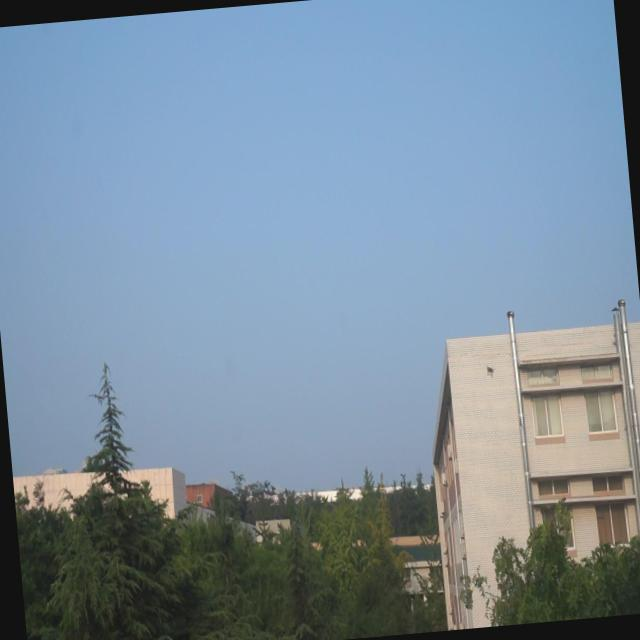drone: (484, 360, 494, 376)
